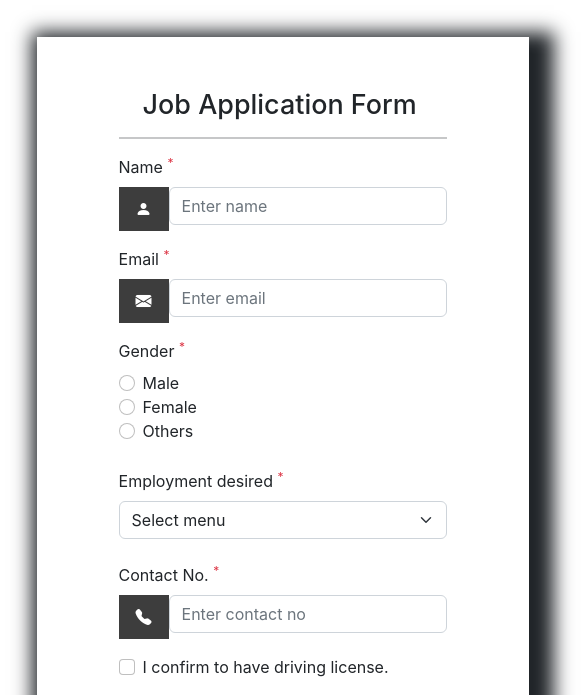
Scenario: Dynamic Form › employment
This screenshot has width=587, height=695.
Select "Part-Tim" in the dropdown with test id "employment": (283,520) left=118, top=501, right=447, bottom=539
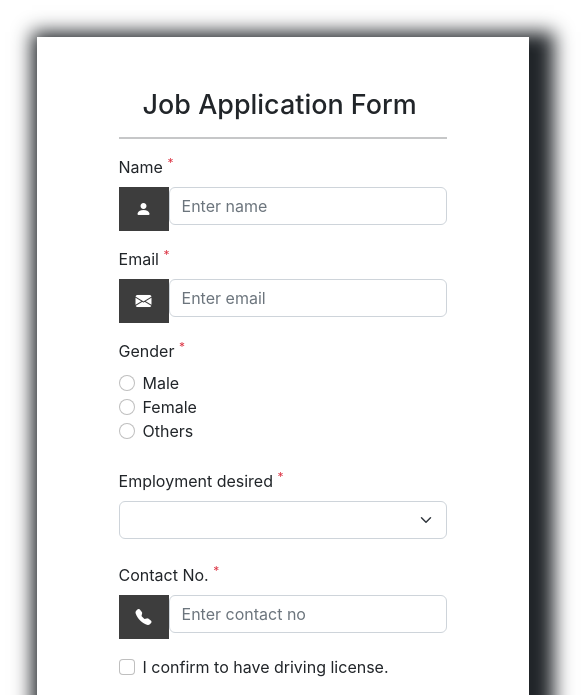
Leave the dropdown with test id "employment", box left=118, top=501, right=447, bottom=539
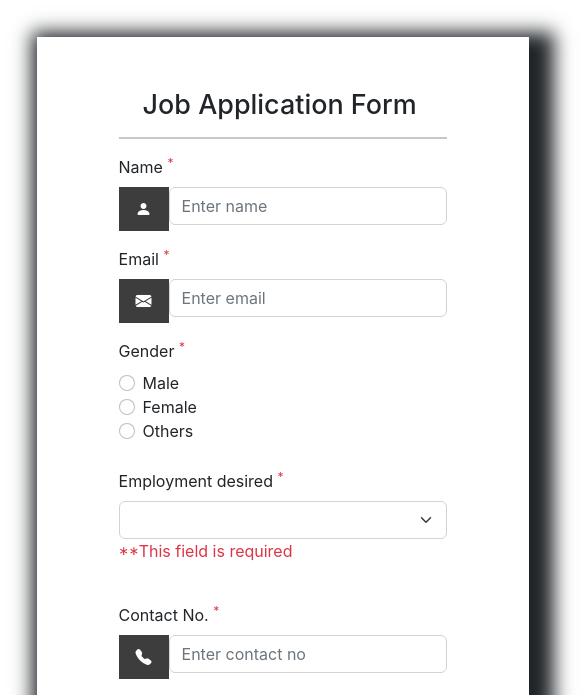
Check: the text "**This field is required" is shown, box left=118, top=541, right=292, bottom=561
